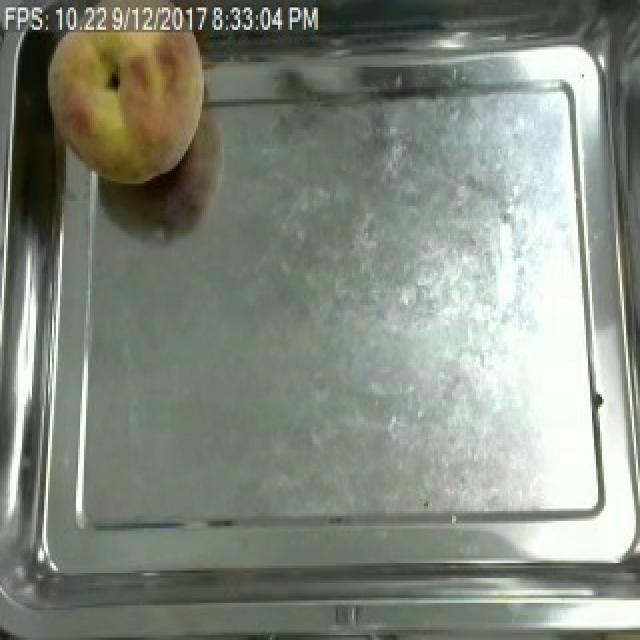Fruit: (40, 10, 216, 191)
